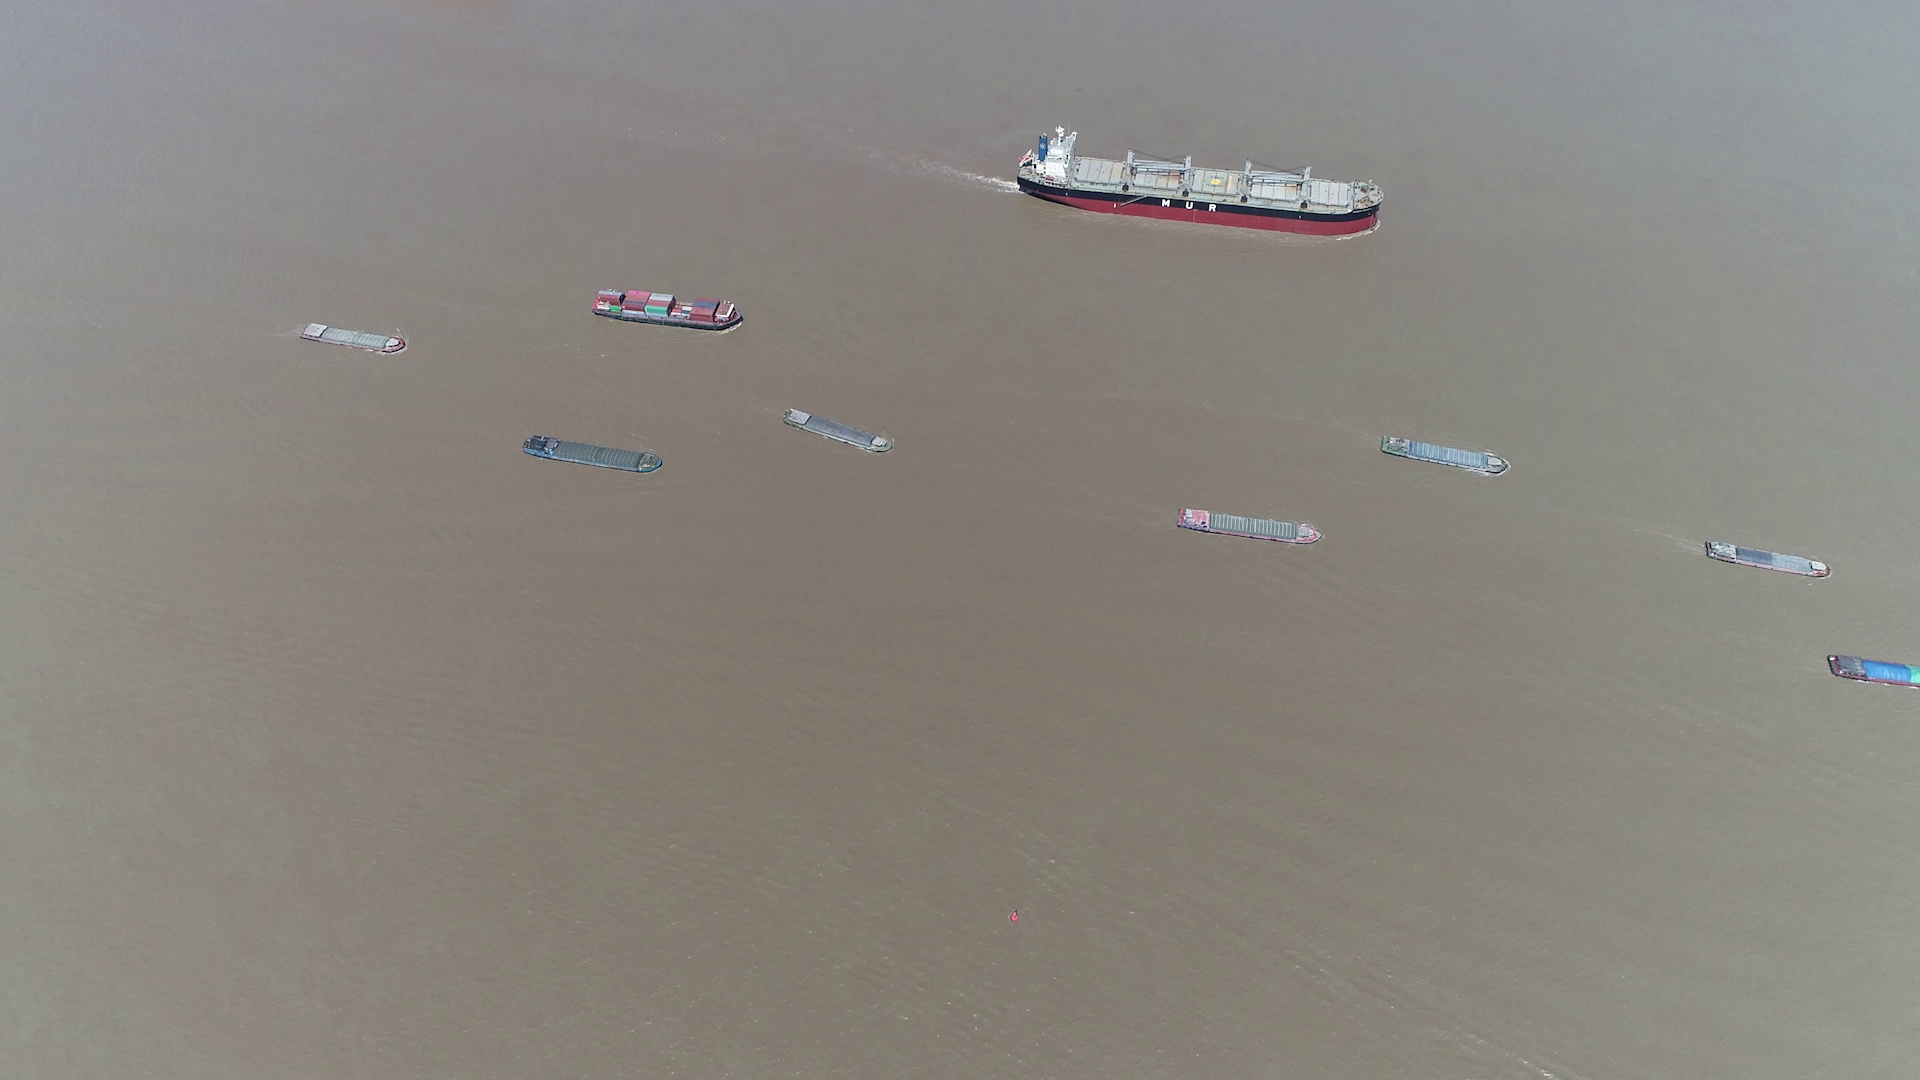ship: (1017, 135, 1379, 233), (593, 287, 745, 331), (524, 434, 663, 475), (1381, 433, 1510, 476), (1178, 508, 1323, 545), (785, 407, 891, 455), (1701, 541, 1833, 579), (301, 320, 407, 353), (1826, 651, 1917, 687)
